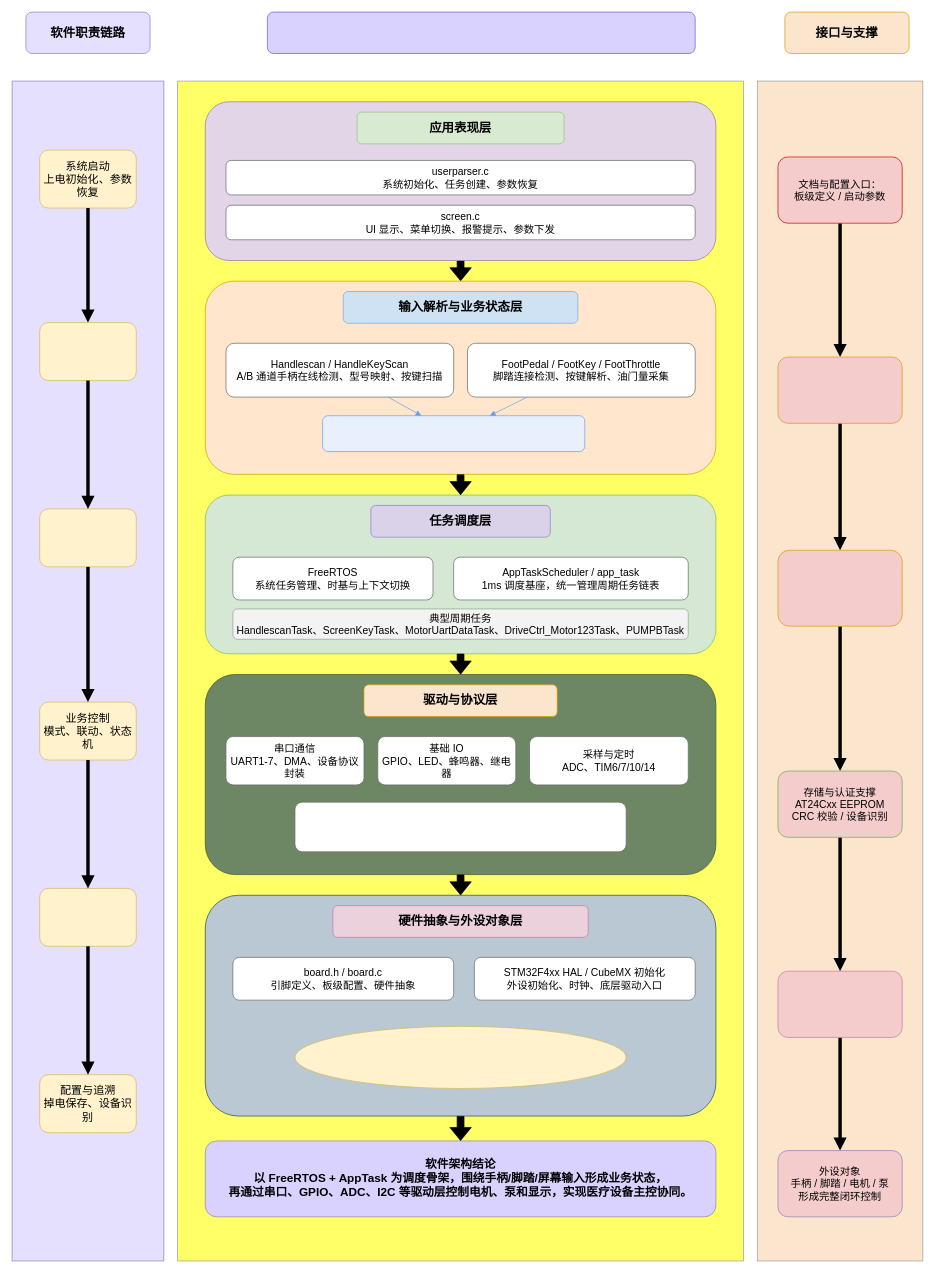
Image size: 935x1273. Some labels were removed from this diagram. Each missing label, with the centre of its shape:
"F413 主控固件软件架构图" goes at (481,32).
"人机交互接口 LCD 串口屏 触摸/按键事件回传" goes at (839,389).
"任务调度 周期任务统一执行" goes at (87,537).
"受控对象 无刷电机 A/B、脚踏板、手柄、LCD 屏、泵、EEPROM" goes at (460,1057).
"存储与识别协议 Soft I2C / EEPROM / 1-Wire / DS2401" goes at (460,826).
"安全与告警 在线判定、故障保护" goes at (87,917).
"安全机制 告警码、运行互锁 在线离线判定" goes at (839,1003).
"核心状态对象 Workvalue / SysInterface / ChannelValue" goes at (453,433).
"设备通信接口 电机 UART 脚踏 UART 调试/扩展串口" goes at (839,588).
"输入采集 手柄、脚踏、屏幕" goes at (87,351).
